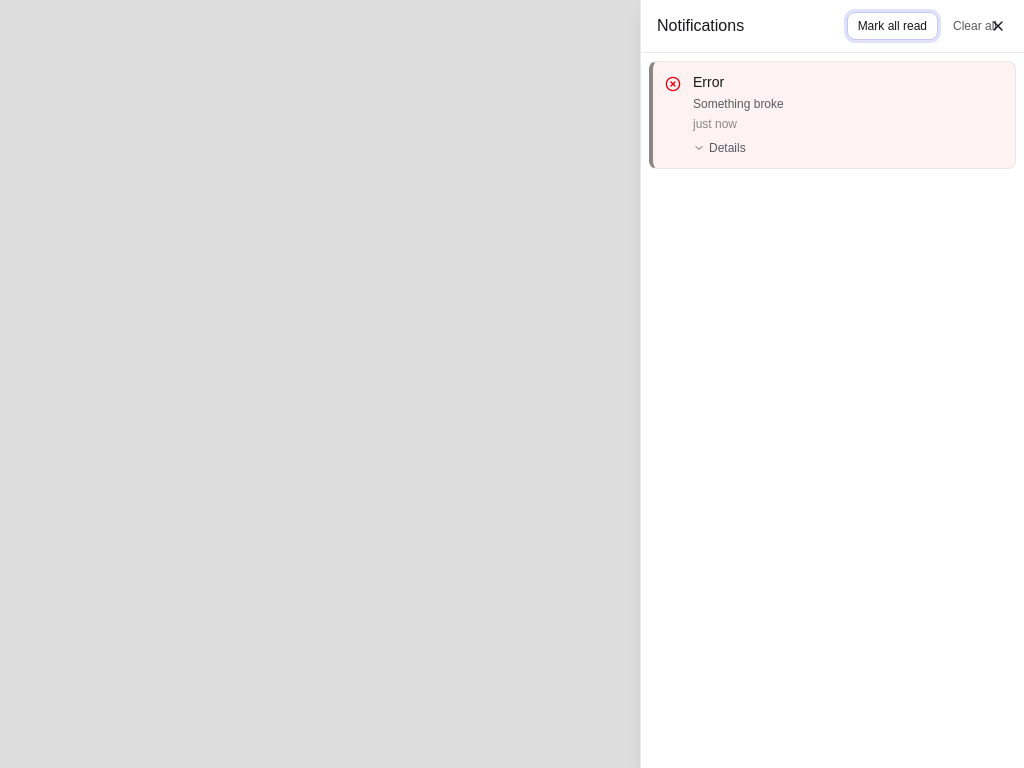
Scenario: NotificationPanel › renders expandable details section when details are provided
The image size is (1024, 768).
Check: the text "Error: Connection refused" is not shown
// Click the Details toggle
Click the button "Details". click: (719, 148)
box: [693, 140, 746, 156]
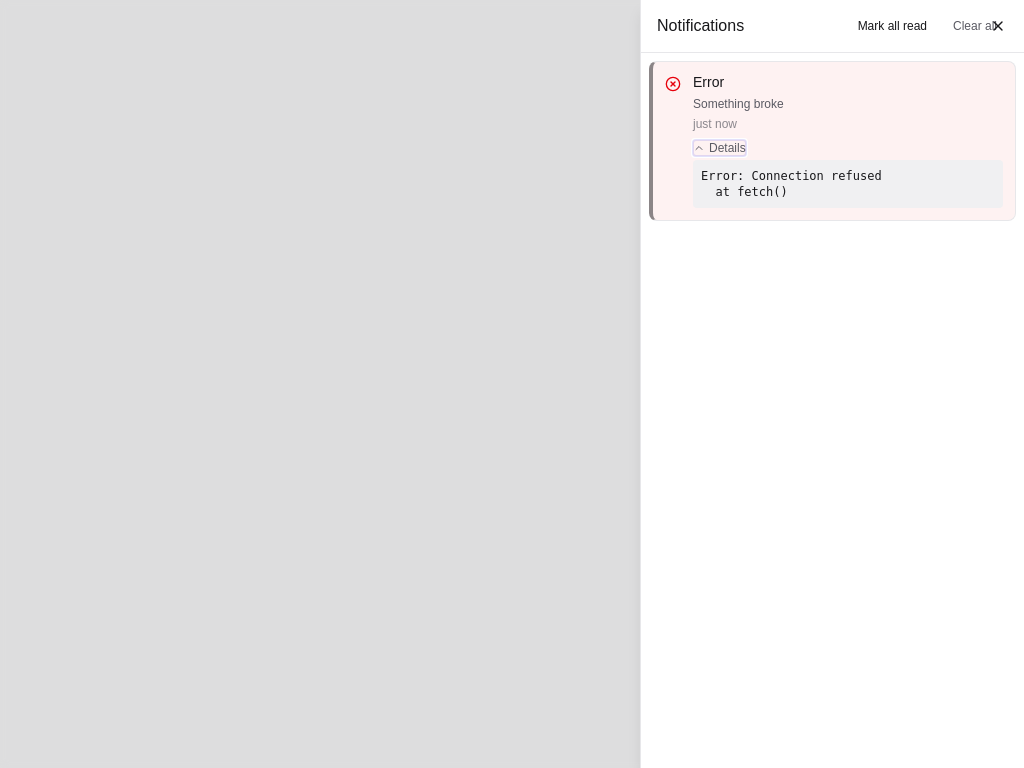
Check: the text "Error: Connection refused at fetch()" is shown, box [693, 160, 1003, 208]
